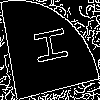H: (25, 25, 69, 68)
